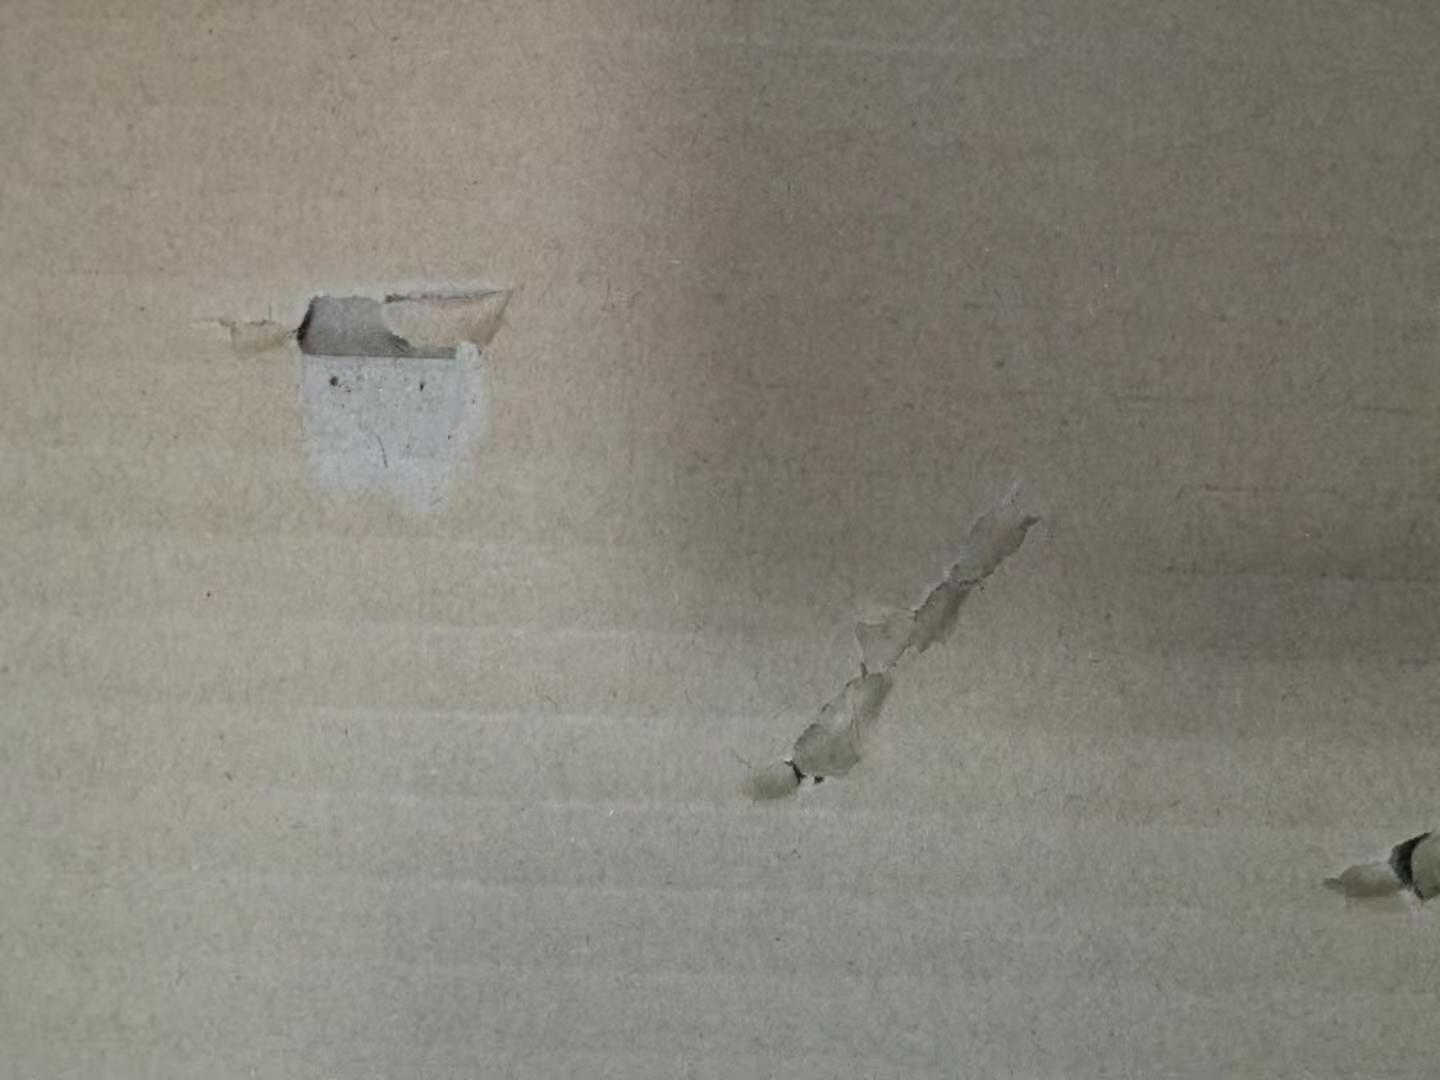defect: (717, 454, 1074, 835), (170, 227, 570, 546), (1301, 804, 1440, 940)
